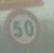limite 50: (1, 2, 53, 53)
